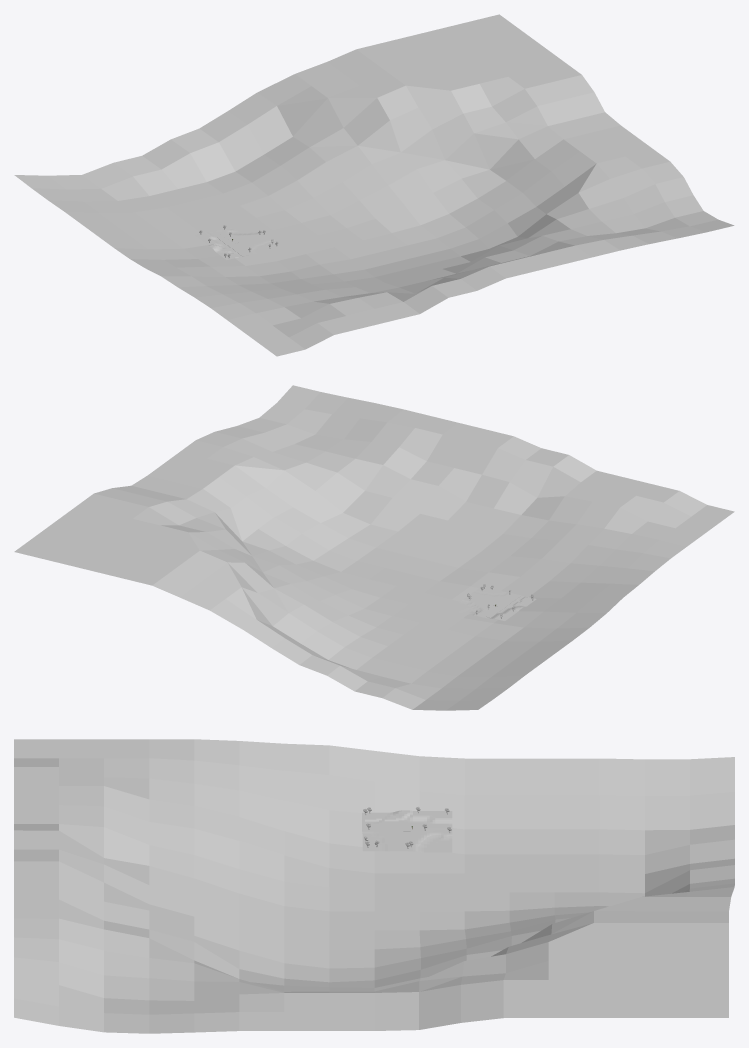
Rendered from Terrain1-1.fbx.
The picture shows the model from 3 angles, top to bottom: view 1: azimuth 30°, elevation 25°; view 2: azimuth 150°, elevation 25°; view 3: azimuth 270°, elevation 25°; orthographic projection. The views are drawn at different scales.
Parts seen in each view (by area): view 1: Plane; view 2: Plane; view 3: Plane.
Boxes of the visible parts, box(x1,y1,x2,y2) form: Plane: box(14, 14, 734, 356); Plane: box(14, 385, 734, 710); Plane: box(14, 739, 734, 1033).
Size of the model in its own units: 423 by 55.26 by 400.
